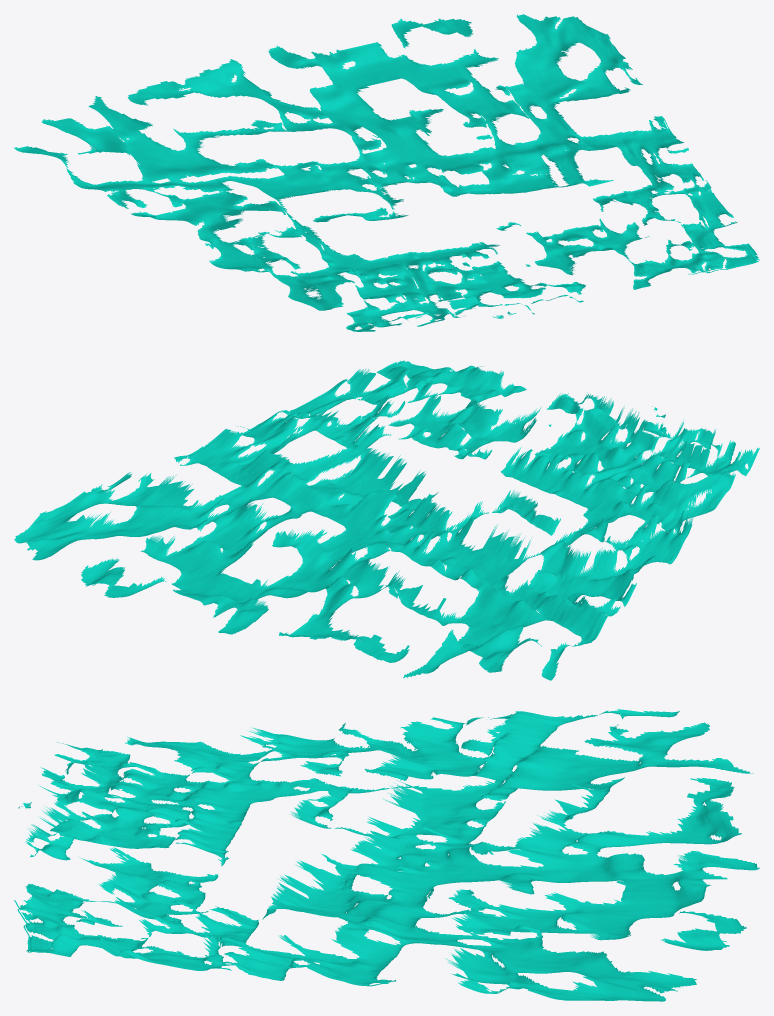
Rendered from walkable.glb.
3 views of the same model, one above another, from view 1: azimuth 30°, elevation 25°; view 2: azimuth 150°, elevation 25°; view 3: azimuth 270°, elevation 25° (orthographic). The views are drawn at different scales.
Visible parts, largest first — view 1: geometry_0; view 2: geometry_0; view 3: geometry_0.
Boxes of the visible parts, left/top/right/bottom form: geometry_0: left=14, top=14, right=759, bottom=331; geometry_0: left=14, top=360, right=759, bottom=680; geometry_0: left=14, top=709, right=759, bottom=1001.
Bounding box in the file's own units: 13.51 × 0.5212 × 14.39.
